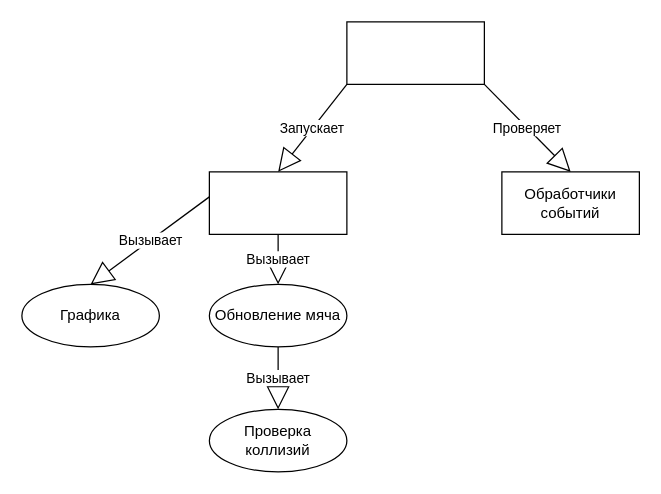
Some shapes in this 661 by 494 pixel diagram are drawn without their labels. Here are the shapes that lost their labels. From the top down, the centre of each, then its label:
At point (415, 52): "Форма".
At point (277, 202): "Таймер".
